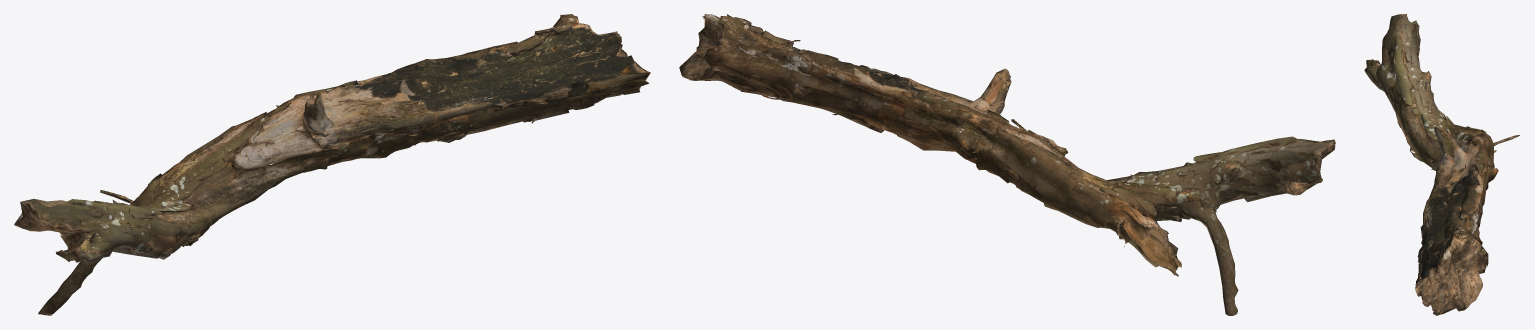
Rendered from tronco_caido.glb.
The picture shows the model from 3 angles, left to right: view 1: azimuth 30°, elevation 25°; view 2: azimuth 150°, elevation 25°; view 3: azimuth 270°, elevation 25°; orthographic projection. The views are drawn at different scales.
Parts seen in each view (by area): view 1: tronco_caido; view 2: tronco_caido; view 3: tronco_caido.
Part boxes in pixels (left/top/right/bottom): tronco_caido: left=14, top=14, right=650, bottom=315; tronco_caido: left=679, top=14, right=1335, bottom=315; tronco_caido: left=1364, top=14, right=1519, bottom=315.
Size of the model in its own units: 4.05 by 1.06 by 1.05.
1 material, 1 textured.
